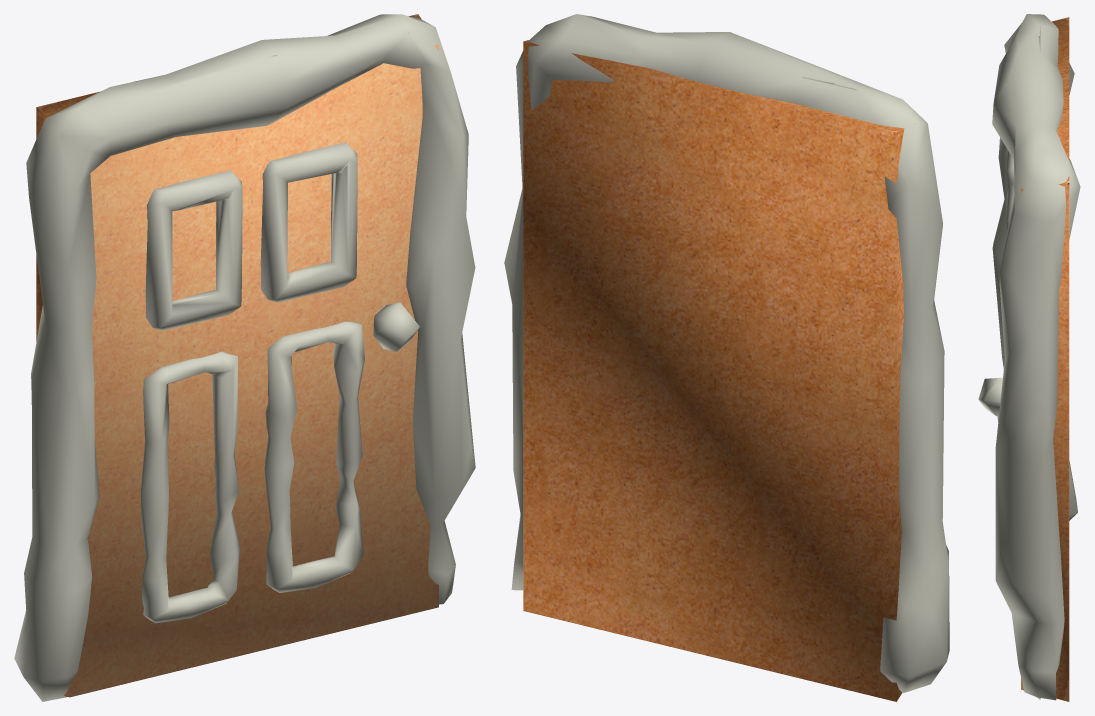
File: Door_Rectangular.glb
The picture shows the model from 3 angles, left to right: view 1: azimuth 30°, elevation 25°; view 2: azimuth 150°, elevation 25°; view 3: azimuth 270°, elevation 25°; orthographic projection. The views are drawn at different scales.
Visible parts, largest first — view 1: Door_Rectangular; view 2: Door_Rectangular; view 3: Door_Rectangular.
Part boxes in pixels (box(x1,y1,x2,y2)): Door_Rectangular: box(14, 14, 475, 701); Door_Rectangular: box(504, 14, 949, 701); Door_Rectangular: box(978, 14, 1080, 701).
Size of the model in its own units: 0.0186 by 0.0244 by 0.00415.
Materials: 2 (2 with a texture image).
